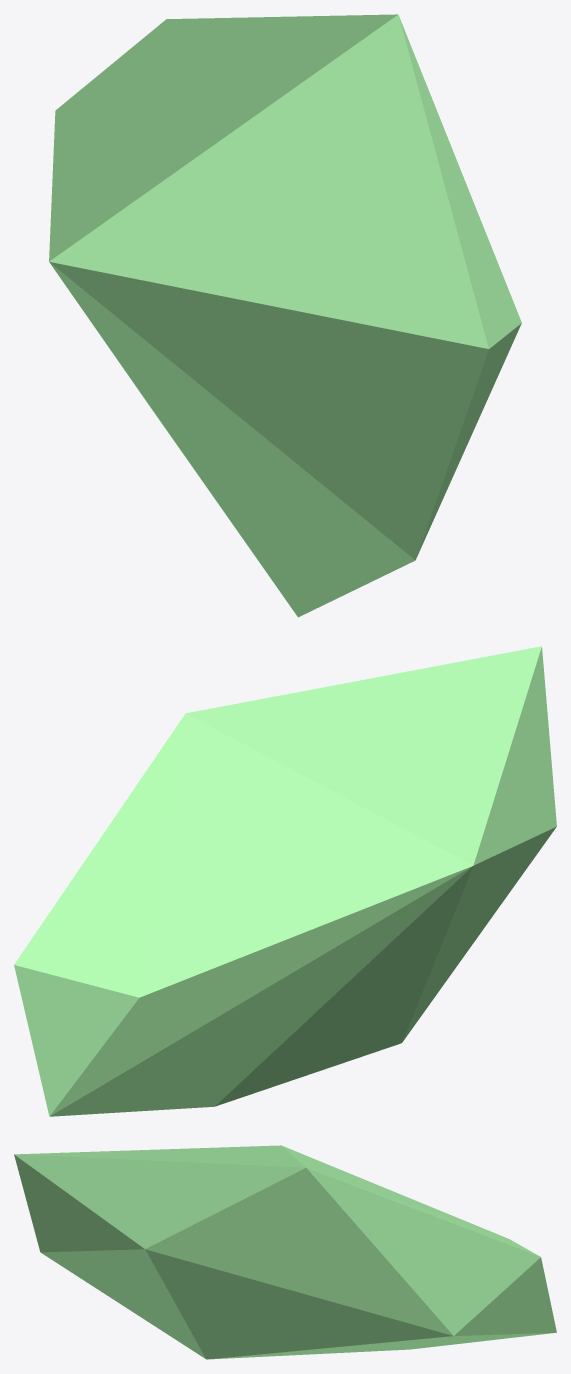
Rendered from dvkr_robot_L3_sx_respondable_TOOL2_coll_6.dae.
3 views of the same model, one above another, from view 1: azimuth 30°, elevation 25°; view 2: azimuth 150°, elevation 25°; view 3: azimuth 270°, elevation 25° (orthographic). The views are drawn at different scales.
Parts seen in each view (by area): view 1: Node_0000023515114F70; view 2: Node_0000023515114F70; view 3: Node_0000023515114F70.
Part boxes in pixels (x1=…): Node_0000023515114F70: x1=49, y1=14, x2=521, y2=617; Node_0000023515114F70: x1=14, y1=646, x2=556, y2=1116; Node_0000023515114F70: x1=14, y1=1145, x2=556, y2=1359.
Bounding box in the file's own units: 0.00225 × 0.0025 × 0.00511.
